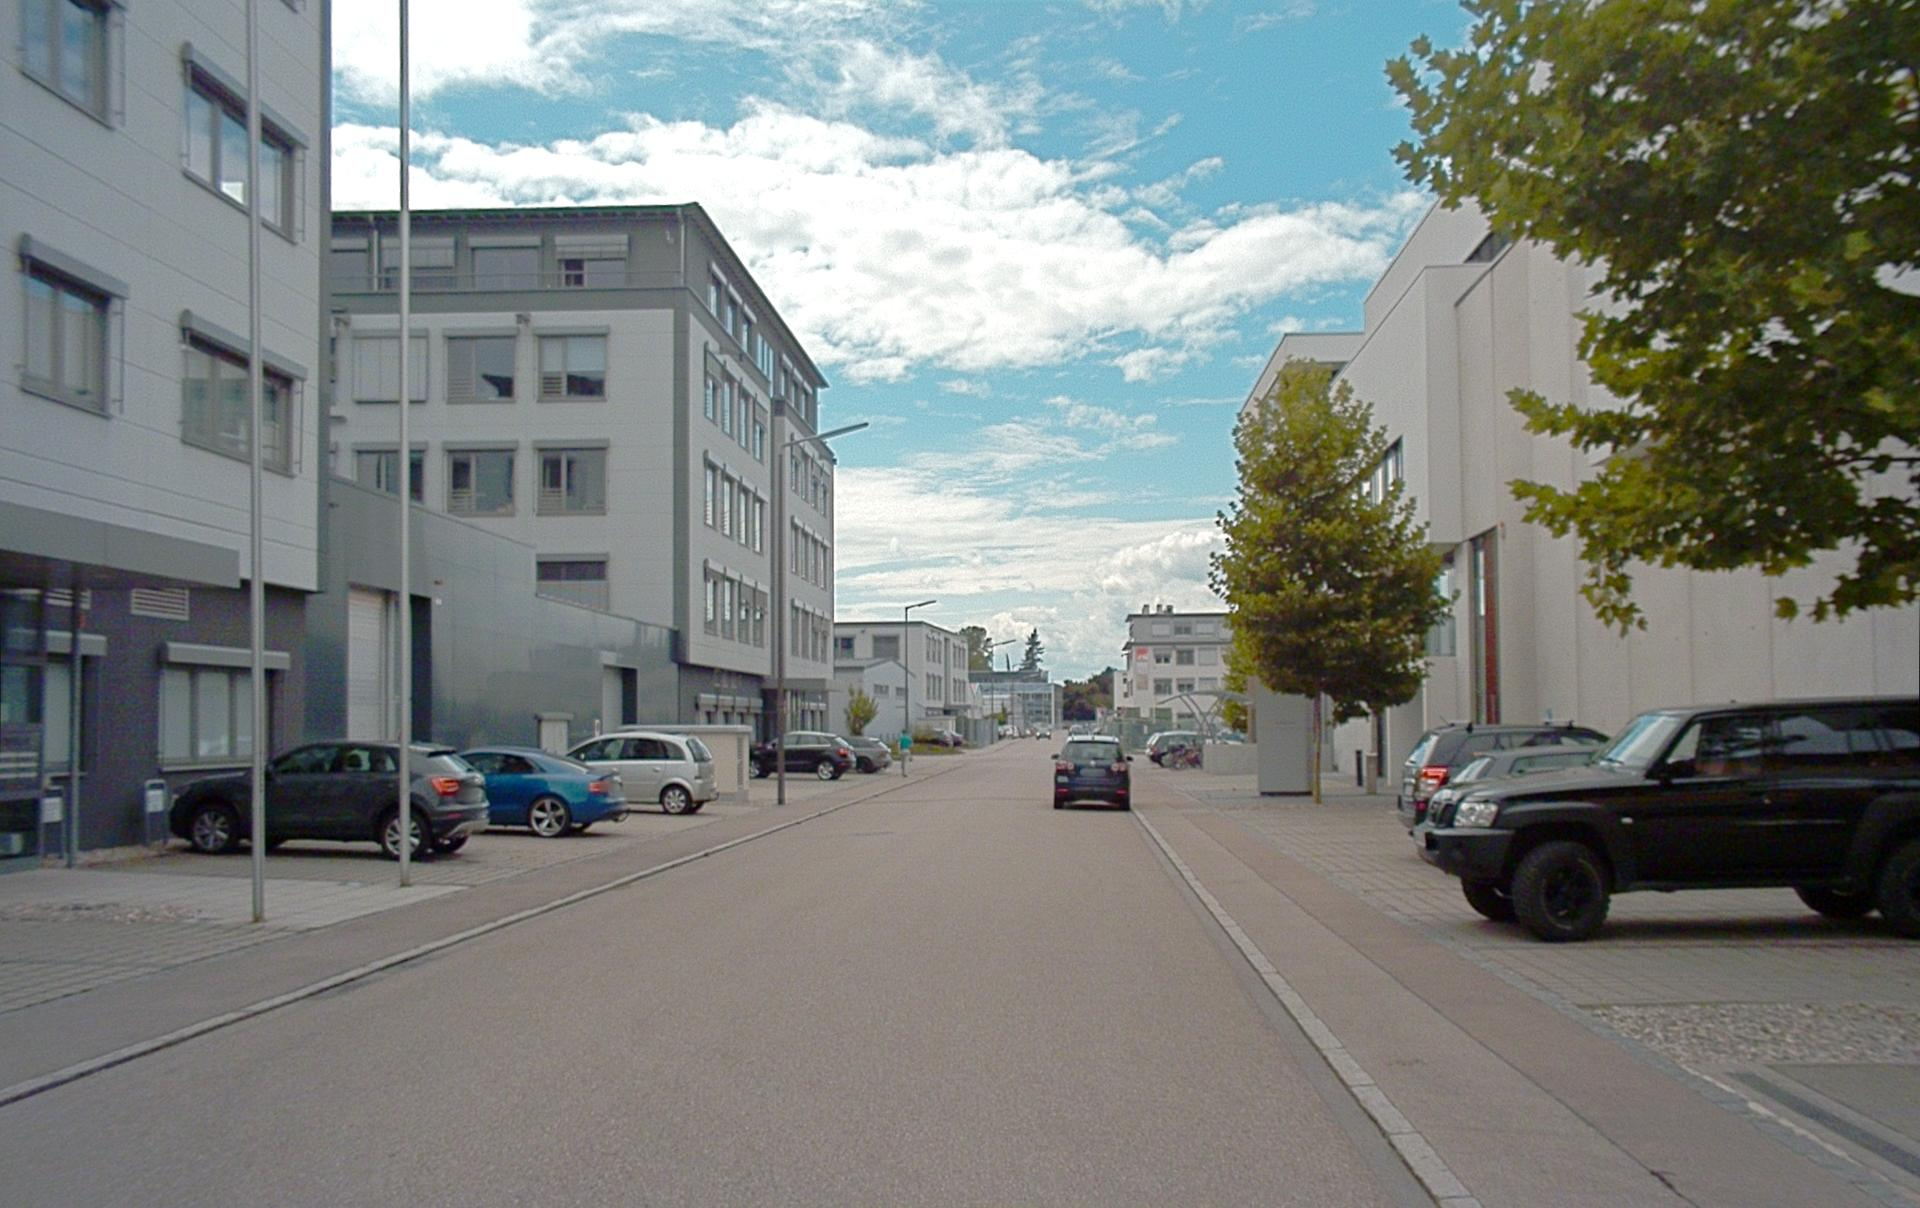car: (1425, 699, 1919, 939), (1397, 722, 1606, 827), (461, 747, 626, 836), (568, 726, 715, 813), (1053, 736, 1130, 810), (1146, 731, 1201, 764), (843, 736, 890, 772), (1159, 745, 1201, 768), (932, 728, 963, 747)
